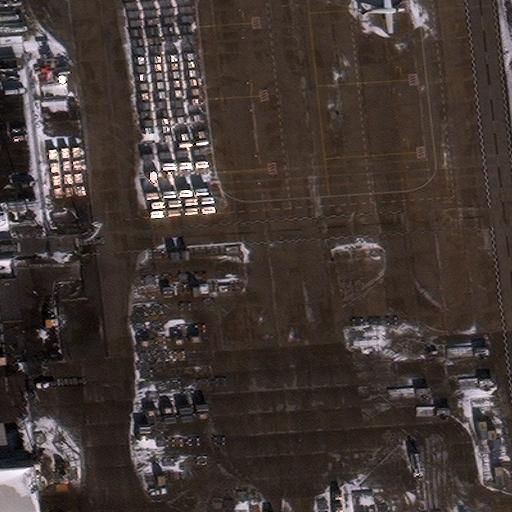Medium Civil Transport: (361, 0, 405, 33)
